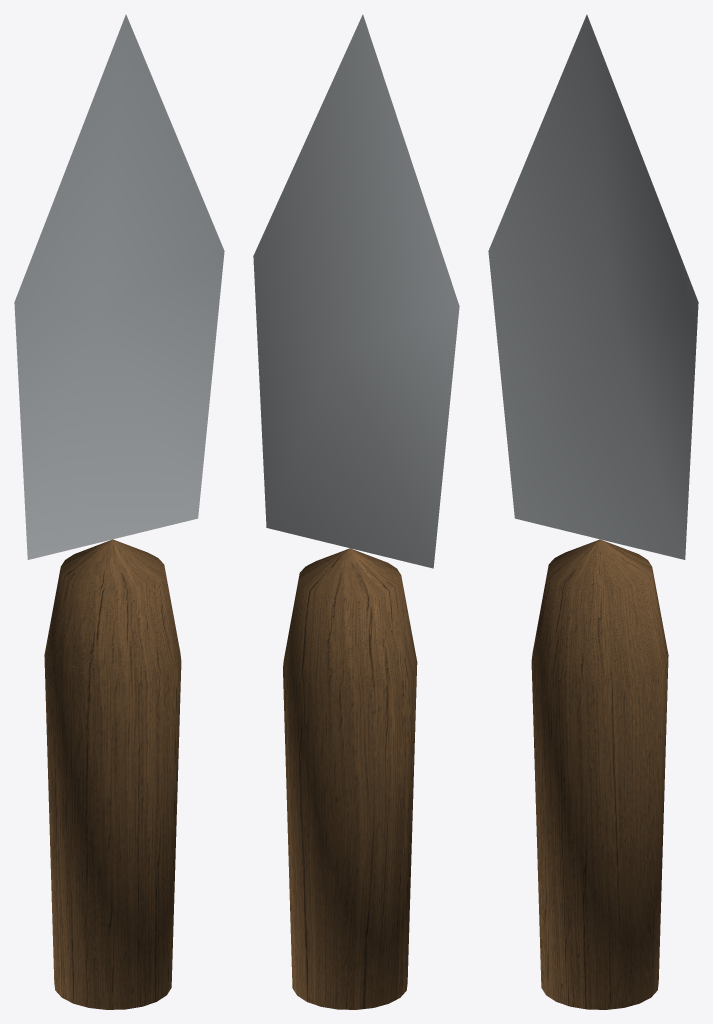
Rendered from sku_garden_trowel.glb.
The picture shows the model from 3 angles, left to right: view 1: azimuth 30°, elevation 25°; view 2: azimuth 150°, elevation 25°; view 3: azimuth 330°, elevation 25°; orthographic projection.
Parts seen in each view (by area): view 1: sku_garden_trowel_Brushed_stainless, sku_garden_trowel_CC0_Oak_veneer; view 2: sku_garden_trowel_Brushed_stainless, sku_garden_trowel_CC0_Oak_veneer; view 3: sku_garden_trowel_Brushed_stainless, sku_garden_trowel_CC0_Oak_veneer.
Part boxes in pixels (x1,y1,x2,y2): sku_garden_trowel_Brushed_stainless: (14, 14, 224, 559); sku_garden_trowel_CC0_Oak_veneer: (44, 539, 181, 1009); sku_garden_trowel_Brushed_stainless: (253, 14, 459, 568); sku_garden_trowel_CC0_Oak_veneer: (283, 548, 417, 1009); sku_garden_trowel_Brushed_stainless: (488, 14, 698, 559); sku_garden_trowel_CC0_Oak_veneer: (531, 539, 668, 1009).
Size of the model in its own units: 0.074 by 0.33 by 0.042.
Materials: 2 (1 with a texture image).
